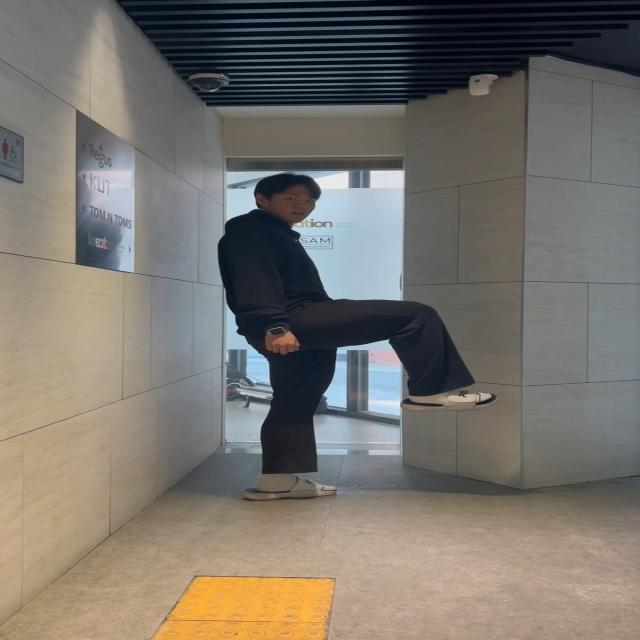knee: (296, 301, 486, 412)
